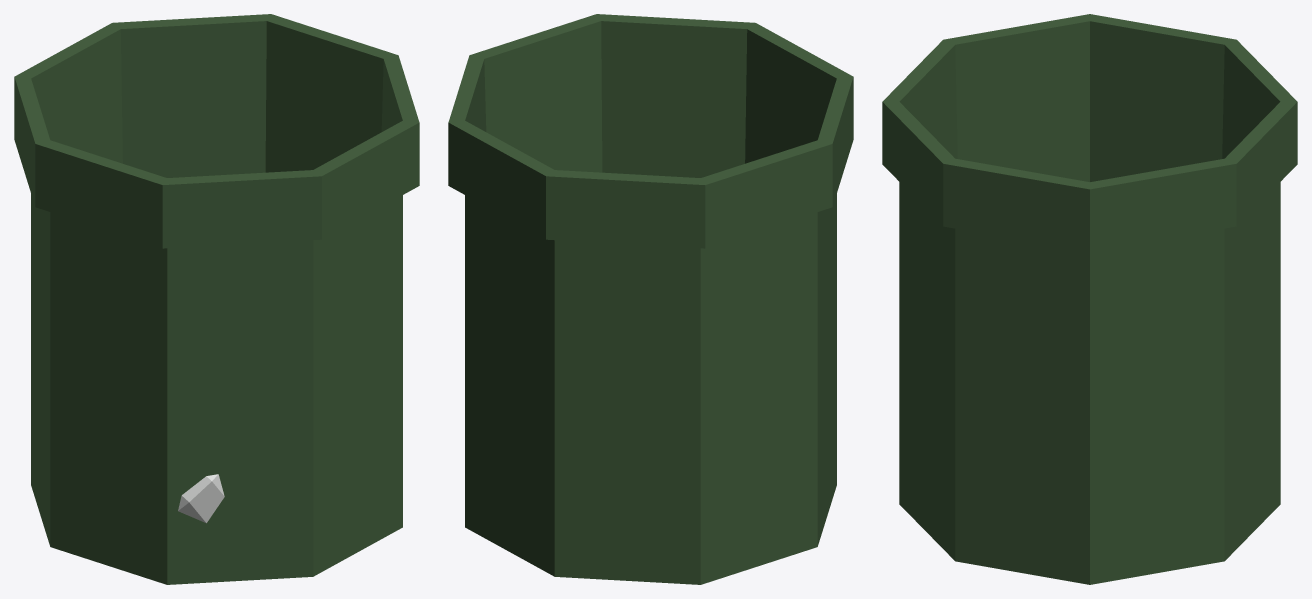
File: PapeleraFinal.fbx
The picture shows the model from 3 angles, left to right: view 1: azimuth 30°, elevation 25°; view 2: azimuth 150°, elevation 25°; view 3: azimuth 270°, elevation 25°; orthographic projection.
Parts seen in each view (by area): view 1: Papelera1; view 2: Papelera1; view 3: Papelera1.
Part boxes in pixels (x1=…): Papelera1: x1=14, y1=14, x2=419, y2=584; Papelera1: x1=448, y1=14, x2=853, y2=584; Papelera1: x1=882, y1=14, x2=1297, y2=584.
Size of the model in its own units: 1.13 by 1.21 by 1.13.
